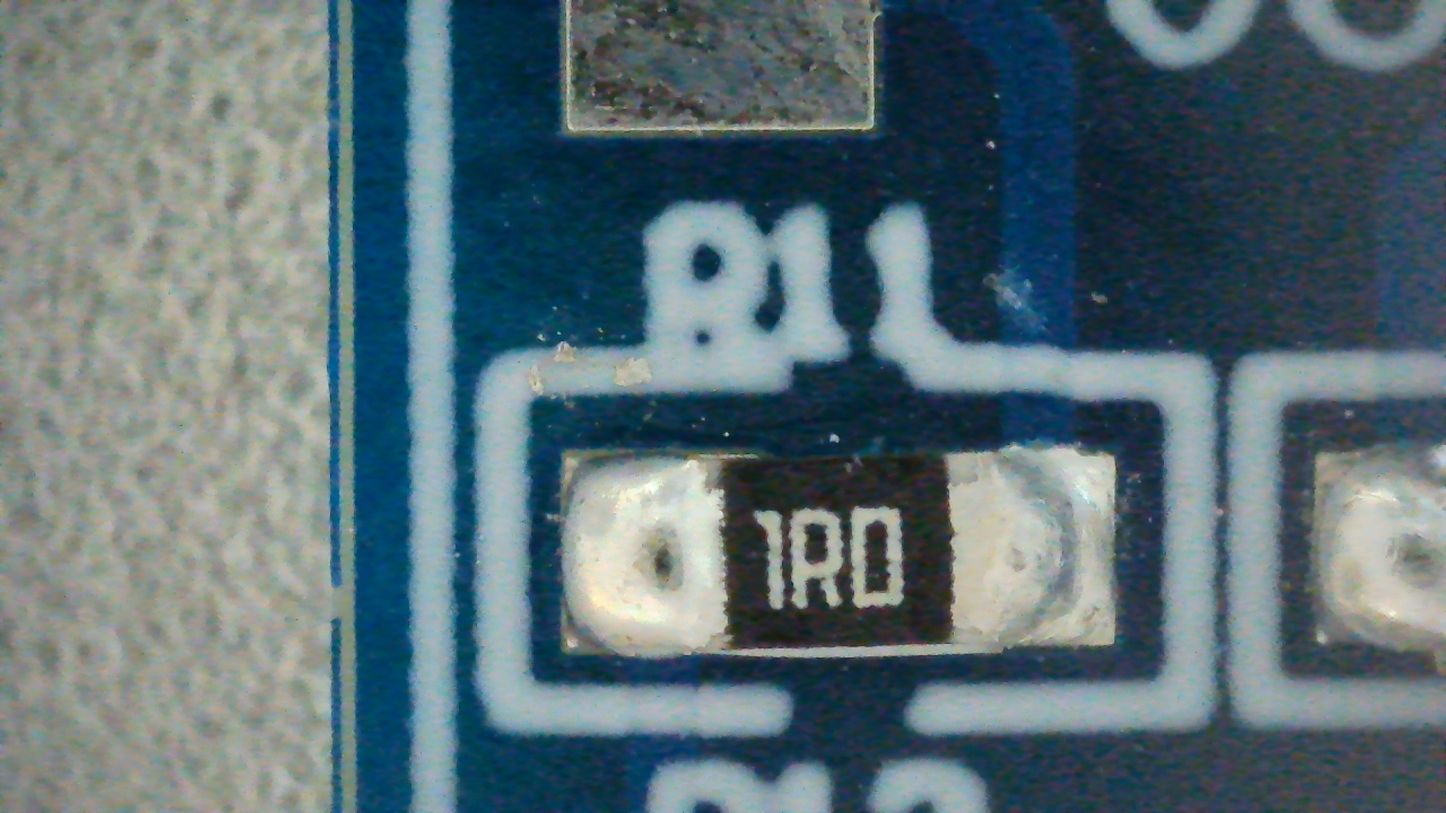OK: (561, 450, 1113, 653)
